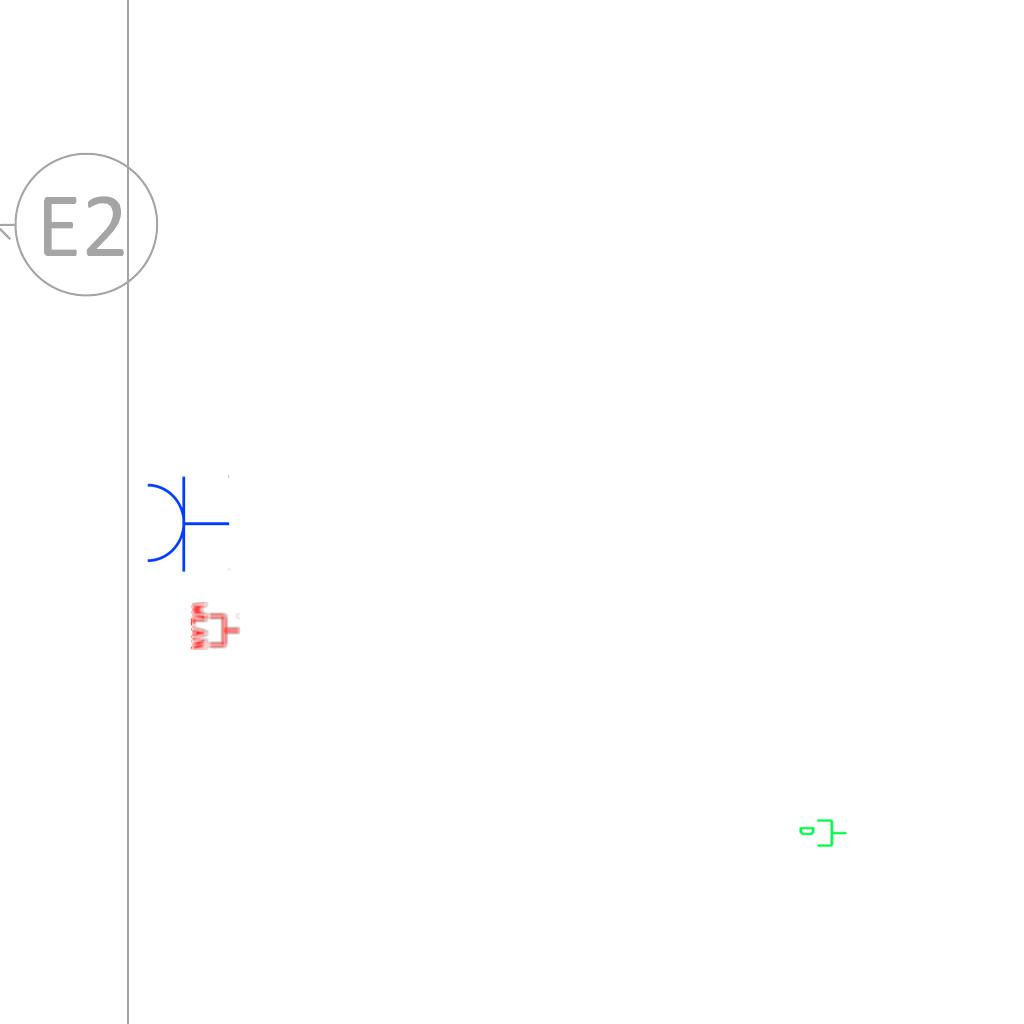Datenanschluss_einfach: (798, 817, 848, 851)
Schukosteckdose_einfach: (143, 473, 230, 573)
WLAN: (190, 600, 242, 652)
